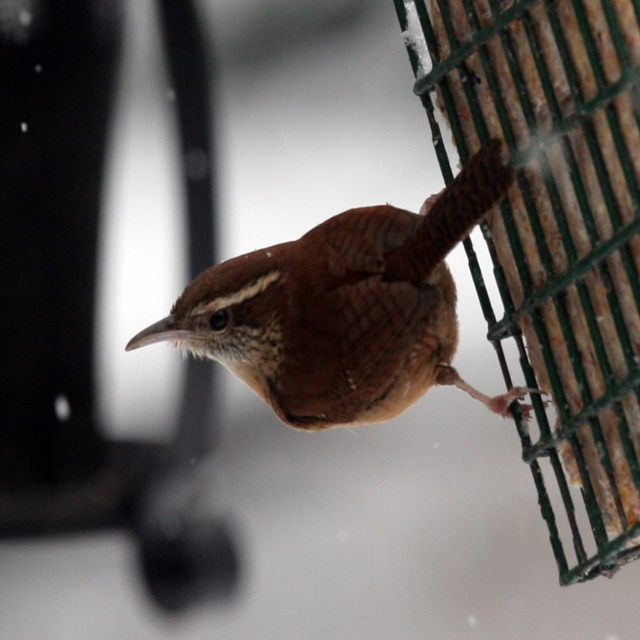Sparrow: (122, 131, 556, 433)
